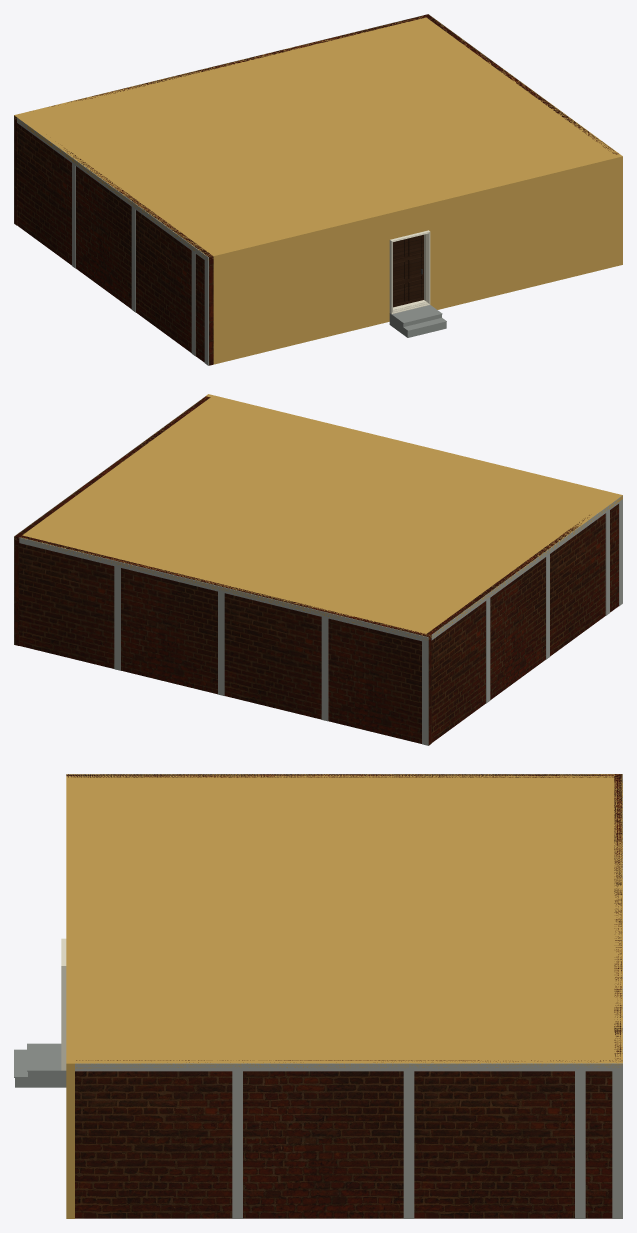
Rendered from building.glb.
3 renders of one model, top to bottom at view 1: azimuth 30°, elevation 25°; view 2: azimuth 150°, elevation 25°; view 3: azimuth 270°, elevation 25°, orthographic. The views are drawn at different scales.
Parts seen in each view (by area): view 1: roof/house:0/roof_slab#0001, house:0/edge0/z0/house:0/edge0/z0/wall_0_0, house:0/edge3/z0/house:0/edge3/z0/wall_0_0, house:0/edge2/z0/house:0/edge2/z0/wall_0_0, entrance/dos_gradas/entrance_steps#0001, house:0/edge3/z0/house:0/edge3/z0/beam_0_0, house:0/edge1/z0/house:0/edge1/z0/wall_0_0, house:0/edge3/z0/house:0/edge3/z0/column_1_0, house:0/edge3/z0/house:0/edge3/z0/column_3_0, house:0/edge3/z0/house:0/edge3/z0/column_4_0; view 2: roof/house:0/roof_slab#0001, house:0/edge2/z0/house:0/edge2/z0/wall_0_0, house:0/edge3/z0/house:0/edge3/z0/wall_0_0, house:0/edge2/z0/house:0/edge2/z0/beam_0_0, house:0/edge1/z0/house:0/edge1/z0/wall_0_0, house:0/edge3/z0/house:0/edge3/z0/beam_0_0, house:0/edge0/z0/house:0/edge0/z0/wall_0_0, house:0/edge2/z0/house:0/edge2/z0/column_4_0, house:0/edge2/z0/house:0/edge2/z0/column_2_0, house:0/edge2/z0/house:0/edge2/z0/column_1_0, house:0/edge2/z0/house:0/edge2/z0/column_3_0, house:0/edge3/z0/house:0/edge3/z0/column_2_0 (+1 smaller); view 3: roof/house:0/roof_slab#0001, house:0/edge1/z0/house:0/edge1/z0/wall_0_0, house:0/edge1/z0/house:0/edge1/z0/beam_0_0, house:0/edge0/z0/house:0/edge0/z0/wall_0_0, entrance/dos_gradas/entrance_steps#0001, house:0/edge3/z0/house:0/edge3/z0/wall_0_0, house:0/edge1/z0/house:0/edge1/z0/column_3_0, house:0/edge1/z0/house:0/edge1/z0/column_1_0, house:0/edge1/z0/house:0/edge1/z0/column_2_0, house:0/edge1/z0/house:0/edge1/z0/column_4_0, house:0/edge2/z0/house:0/edge2/z0/wall_0_0, house:0/edge0/z0/opening_u7.00_v0.32/door_moulding#0028.
Part boxes in pixels (left/top/right/bottom): roof/house:0/roof_slab#0001: left=14, top=16, right=622, bottom=259; house:0/edge0/z0/house:0/edge0/z0/wall_0_0: left=211, top=156, right=622, bottom=364; house:0/edge3/z0/house:0/edge3/z0/wall_0_0: left=17, top=123, right=213, bottom=365; house:0/edge2/z0/house:0/edge2/z0/wall_0_0: left=14, top=15, right=425, bottom=225; entrance/dos_gradas/entrance_steps#0001: left=389, top=305, right=446, bottom=337; house:0/edge3/z0/house:0/edge3/z0/beam_0_0: left=17, top=117, right=208, bottom=262; house:0/edge1/z0/house:0/edge1/z0/wall_0_0: left=424, top=14, right=618, bottom=154; house:0/edge3/z0/house:0/edge3/z0/column_1_0: left=204, top=260, right=208, bottom=365; house:0/edge3/z0/house:0/edge3/z0/column_3_0: left=131, top=207, right=135, bottom=312; house:0/edge3/z0/house:0/edge3/z0/column_4_0: left=191, top=251, right=195, bottom=356; roof/house:0/roof_slab#0001: left=14, top=395, right=622, bottom=640; house:0/edge2/z0/house:0/edge2/z0/wall_0_0: left=19, top=535, right=431, bottom=745; house:0/edge3/z0/house:0/edge3/z0/wall_0_0: left=427, top=504, right=618, bottom=742; house:0/edge2/z0/house:0/edge2/z0/beam_0_0: left=19, top=537, right=428, bottom=642; house:0/edge1/z0/house:0/edge1/z0/wall_0_0: left=14, top=396, right=210, bottom=645; house:0/edge3/z0/house:0/edge3/z0/beam_0_0: left=431, top=495, right=622, bottom=640; house:0/edge0/z0/house:0/edge0/z0/wall_0_0: left=206, top=394, right=506, bottom=466; house:0/edge2/z0/house:0/edge2/z0/column_4_0: left=321, top=617, right=328, bottom=721; house:0/edge2/z0/house:0/edge2/z0/column_2_0: left=114, top=566, right=120, bottom=670; house:0/edge2/z0/house:0/edge2/z0/column_1_0: left=422, top=641, right=428, bottom=745; house:0/edge2/z0/house:0/edge2/z0/column_3_0: left=218, top=591, right=224, bottom=695; house:0/edge3/z0/house:0/edge3/z0/column_2_0: left=486, top=598, right=490, bottom=703; roof/house:0/roof_slab#0001: left=66, top=774, right=622, bottom=1068; house:0/edge1/z0/house:0/edge1/z0/wall_0_0: left=75, top=1060, right=622, bottom=1218; house:0/edge1/z0/house:0/edge1/z0/beam_0_0: left=75, top=1063, right=622, bottom=1071; house:0/edge0/z0/house:0/edge0/z0/wall_0_0: left=66, top=778, right=74, bottom=1218; entrance/dos_gradas/entrance_steps#0001: left=15, top=1043, right=66, bottom=1087; house:0/edge3/z0/house:0/edge3/z0/wall_0_0: left=66, top=774, right=614, bottom=777; house:0/edge1/z0/house:0/edge1/z0/column_3_0: left=403, top=1071, right=414, bottom=1218; house:0/edge1/z0/house:0/edge1/z0/column_1_0: left=612, top=1071, right=622, bottom=1218; house:0/edge1/z0/house:0/edge1/z0/column_2_0: left=232, top=1071, right=242, bottom=1218; house:0/edge1/z0/house:0/edge1/z0/column_4_0: left=575, top=1071, right=585, bottom=1218; house:0/edge2/z0/house:0/edge2/z0/wall_0_0: left=614, top=774, right=622, bottom=1059; house:0/edge0/z0/opening_u7.00_v0.32/door_moulding#0028: left=61, top=938, right=66, bottom=1070.
Size of the model in its own units: 16 by 4.12 by 14.22.
7 materials, 2 textured.
